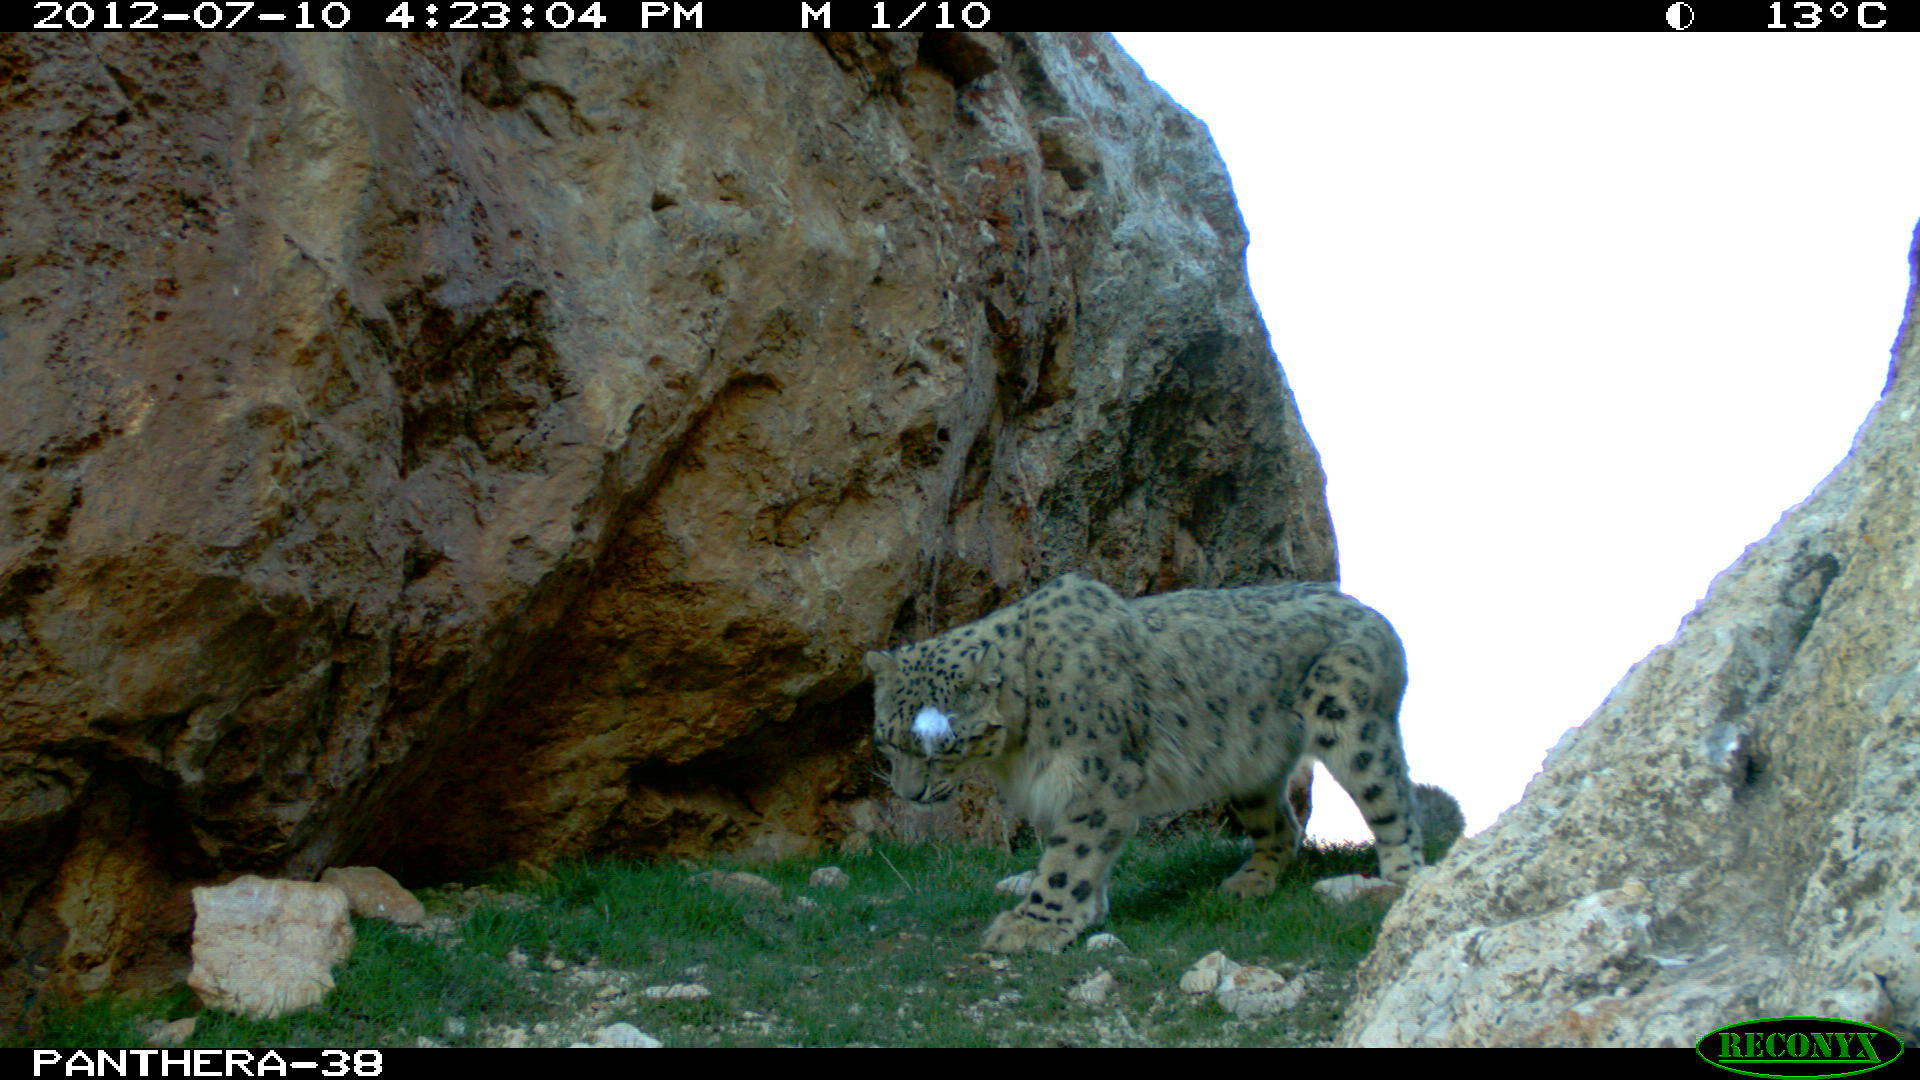Leopard: (843, 553, 1452, 969)
